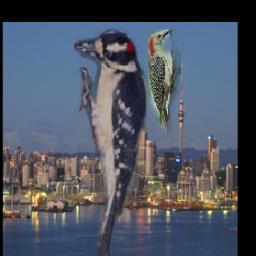Woodpecker: (75, 26, 150, 256), (150, 29, 182, 134)
